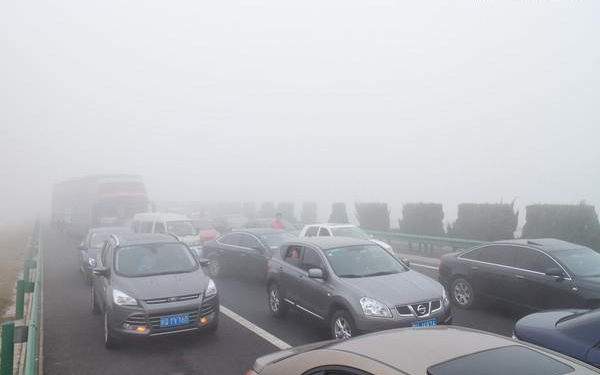bus: (52, 174, 159, 238)
car: (263, 234, 452, 341), (247, 319, 600, 375), (90, 229, 222, 350), (437, 235, 600, 314), (202, 226, 316, 283), (512, 305, 600, 369), (75, 224, 142, 289), (297, 222, 393, 265), (129, 211, 203, 258)
